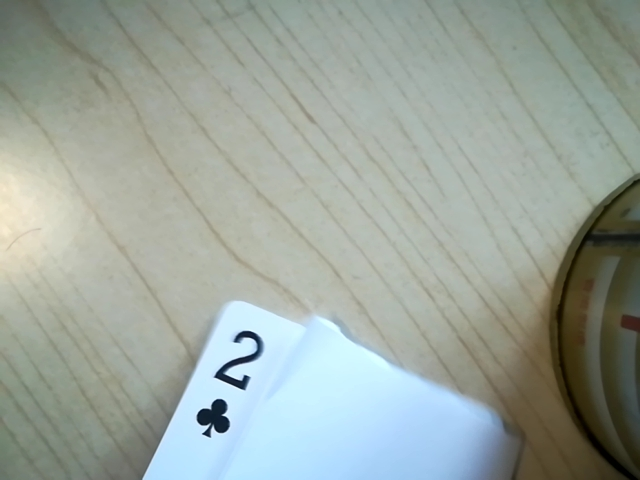mh 2: (188, 323, 277, 442)
